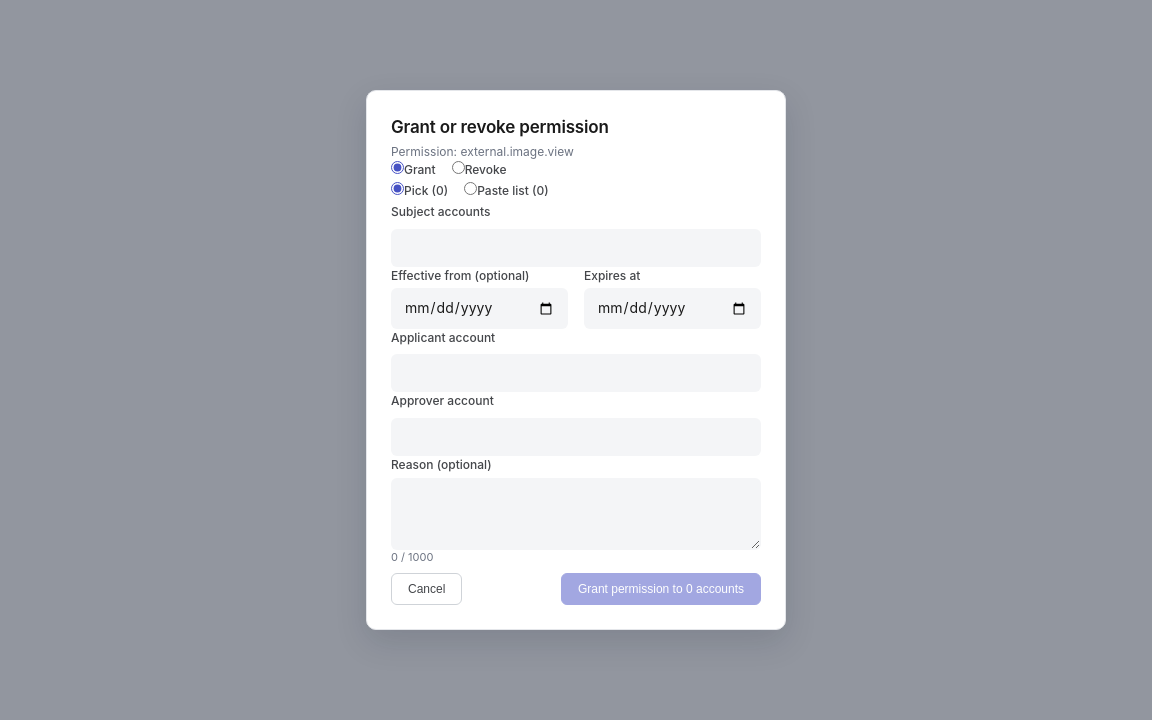
CreatePermissionsDialog — form › hides the effectiveFrom/expiresAt date inputs in revoke mode
Click the radio button labelled "Revoke" at (458, 167), box [452,161,465,174]
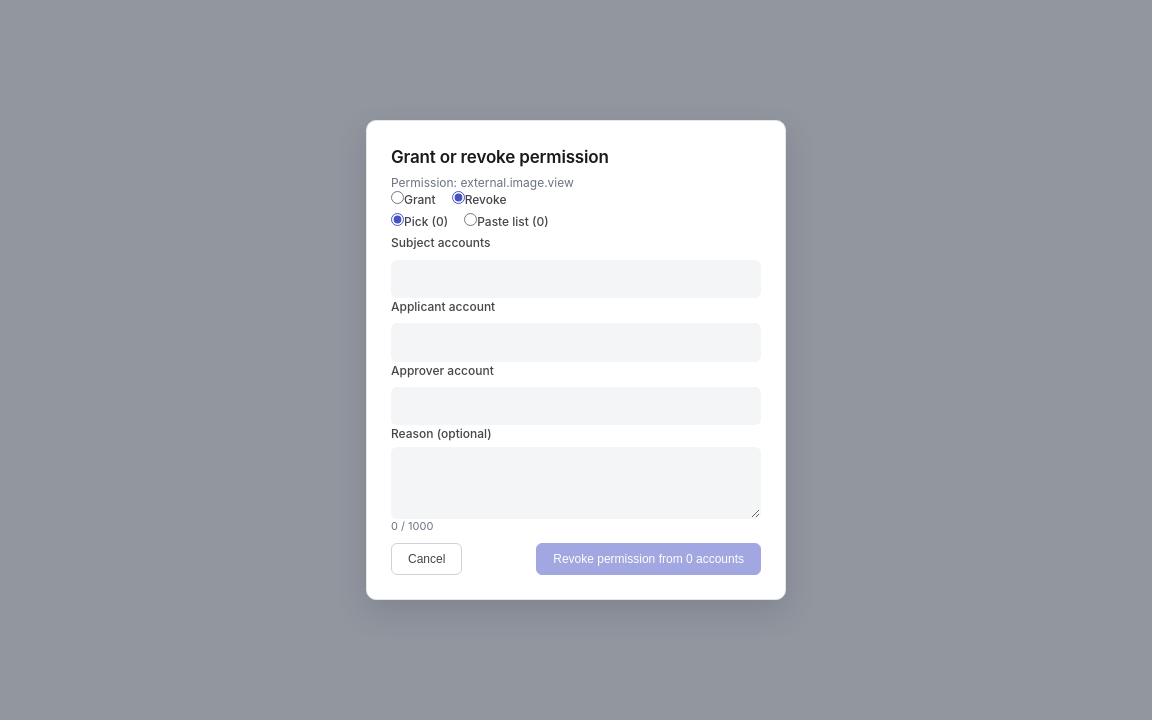
expect the label labelled "Effective from" is gone: met
expect the label labelled "Expires at" is gone: met
expect the button "Revoke permission from 0 accounts" is shown: met, box [536,543,761,575]
